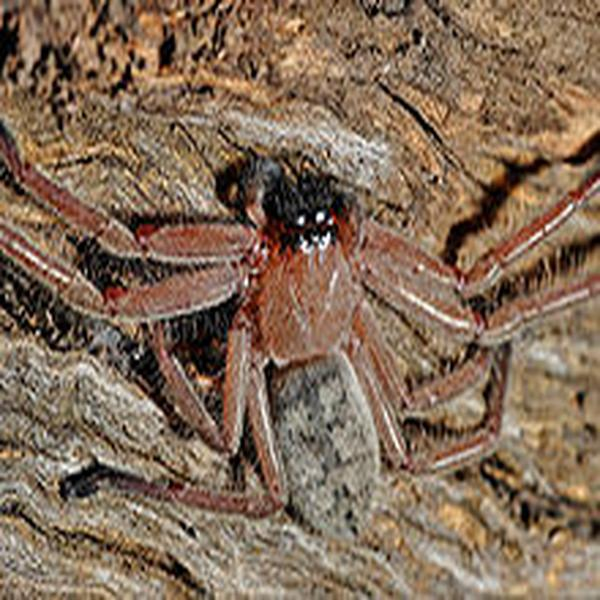Huntsman Spider: (9, 144, 599, 537)
